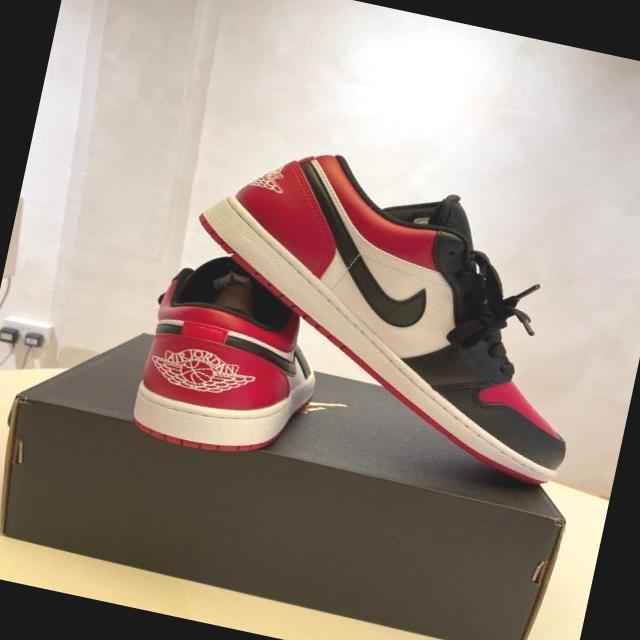nike_original_jordan: (150, 126, 625, 494), (125, 240, 339, 476)
